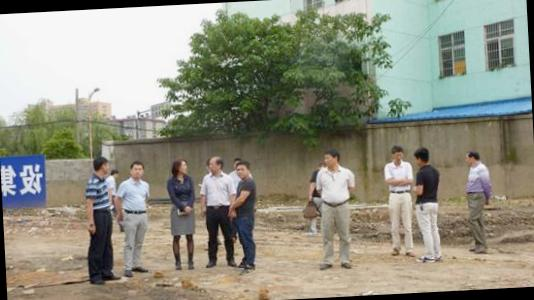no_helmet: (319, 145, 345, 169), (91, 153, 114, 176), (169, 155, 191, 178), (412, 144, 432, 168), (208, 153, 228, 175), (464, 148, 485, 168), (388, 144, 405, 166), (129, 158, 146, 180), (237, 158, 254, 179), (108, 166, 122, 184)
